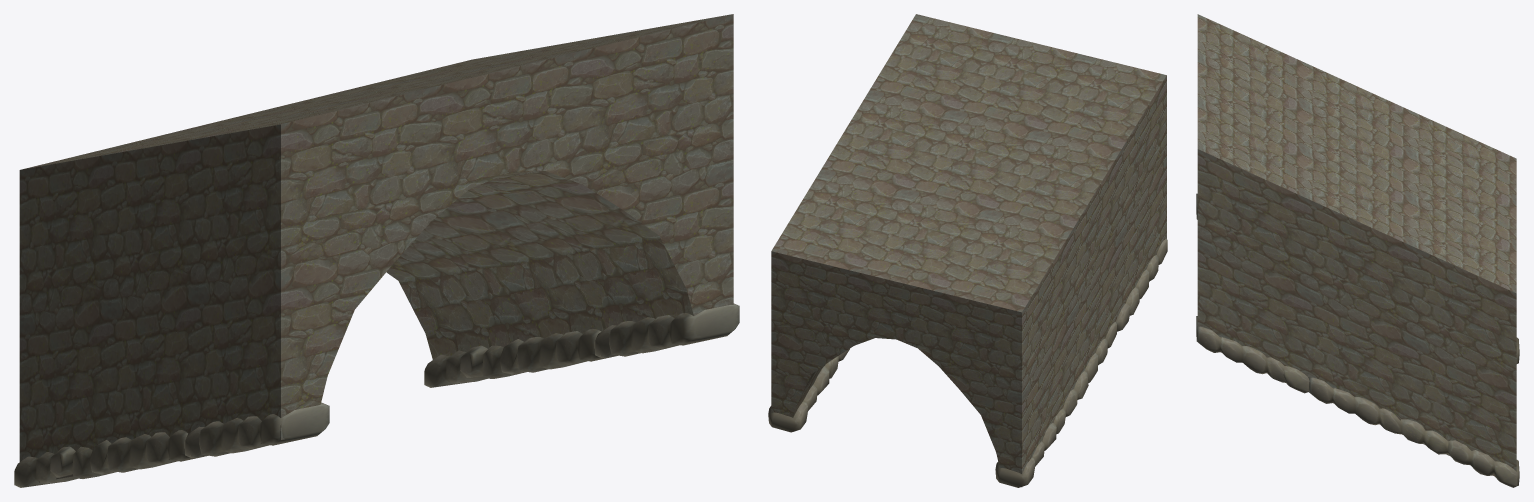
The model's file is SM_FW01_Ruins_Int_Ceiling_B_6x6_Ramp_01.fbx.
3 renders of one model, left to right at view 1: azimuth 30°, elevation 25°; view 2: azimuth 150°, elevation 25°; view 3: azimuth 270°, elevation 25°, orthographic. The views are drawn at different scales.
Parts seen in each view (by area): view 1: SM_FW01_Ruins_Int_Ceiling_B_6x6_Ramp_01, SM_FW01_Ruins_Int_Ceiling_B_6x6_Ramp_01_LOD0; view 2: SM_FW01_Ruins_Int_Ceiling_B_6x6_Ramp_01, SM_FW01_Ruins_Int_Ceiling_B_6x6_Ramp_01_LOD0; view 3: SM_FW01_Ruins_Int_Ceiling_B_6x6_Ramp_01, SM_FW01_Ruins_Int_Ceiling_B_6x6_Ramp_01_LOD0.
Boxes of the visible parts, <box> form: SM_FW01_Ruins_Int_Ceiling_B_6x6_Ramp_01: <box>19,14,733,482</box>; SM_FW01_Ruins_Int_Ceiling_B_6x6_Ramp_01_LOD0: <box>14,303,739,487</box>; SM_FW01_Ruins_Int_Ceiling_B_6x6_Ramp_01: <box>771,14,1166,487</box>; SM_FW01_Ruins_Int_Ceiling_B_6x6_Ramp_01_LOD0: <box>768,238,1167,487</box>; SM_FW01_Ruins_Int_Ceiling_B_6x6_Ramp_01: <box>1197,14,1516,476</box>; SM_FW01_Ruins_Int_Ceiling_B_6x6_Ramp_01_LOD0: <box>1196,193,1519,487</box>.
Size of what is drawn, in the model's own units: 6.3 by 7.04 by 6.08.
